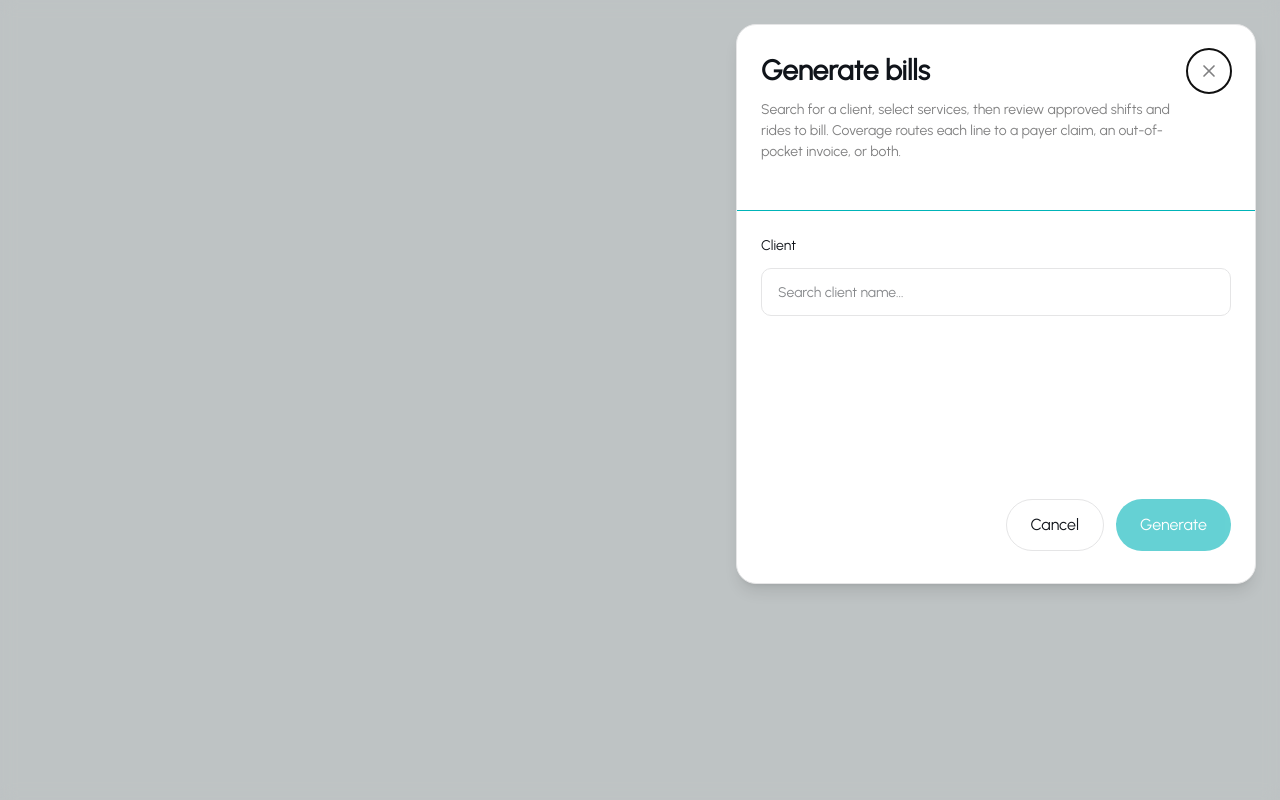
it: claims client search cancellation › clears and preserves loading ownership in the generation modal search
Later steps or results of the test are not shown.
Step 1. Type "Ali" into the field with placeholder "Search client name..." → (996, 292), box top-left (761, 268), bottom-right (1231, 316)
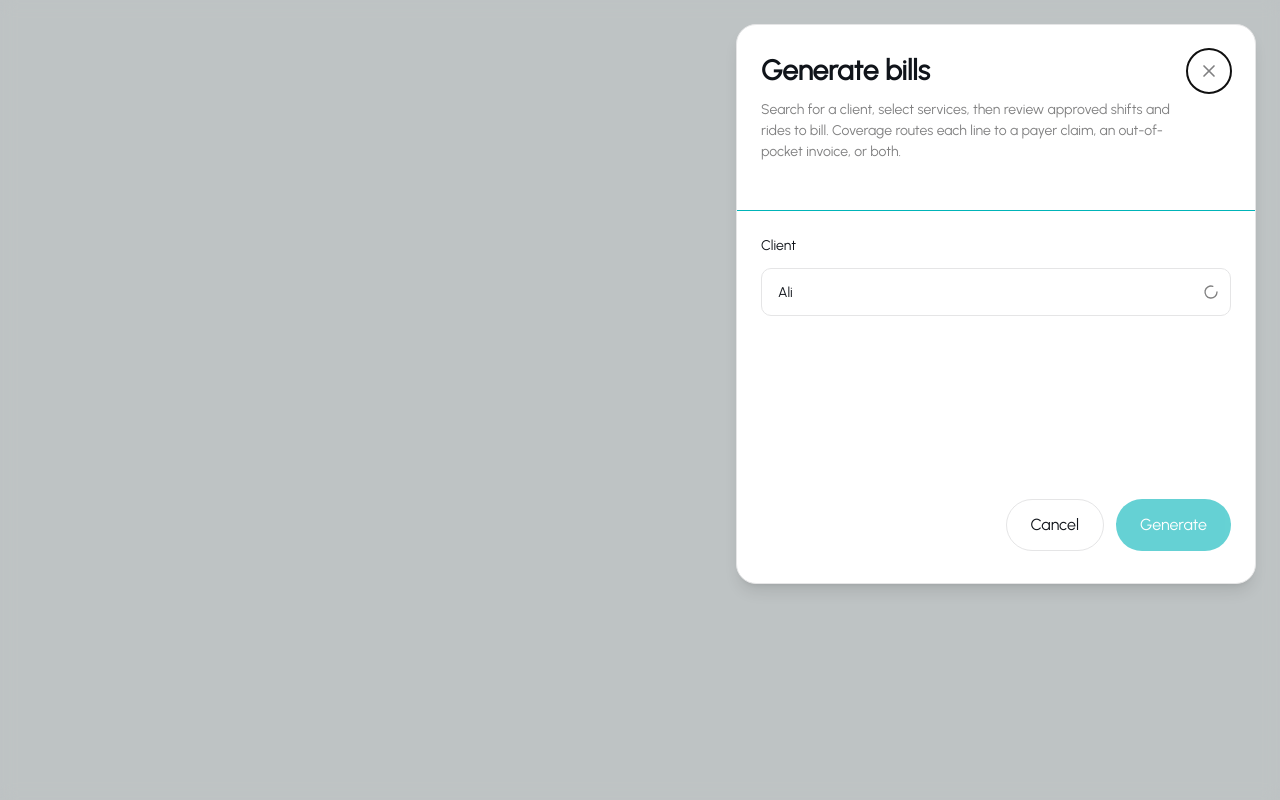
Expected: the icon with class "animate-spin" is shown, top-left (1203, 284), bottom-right (1219, 300)
Step 2. Clear the field with placeholder "Search client name..." → (996, 292), box top-left (761, 268), bottom-right (1231, 316)
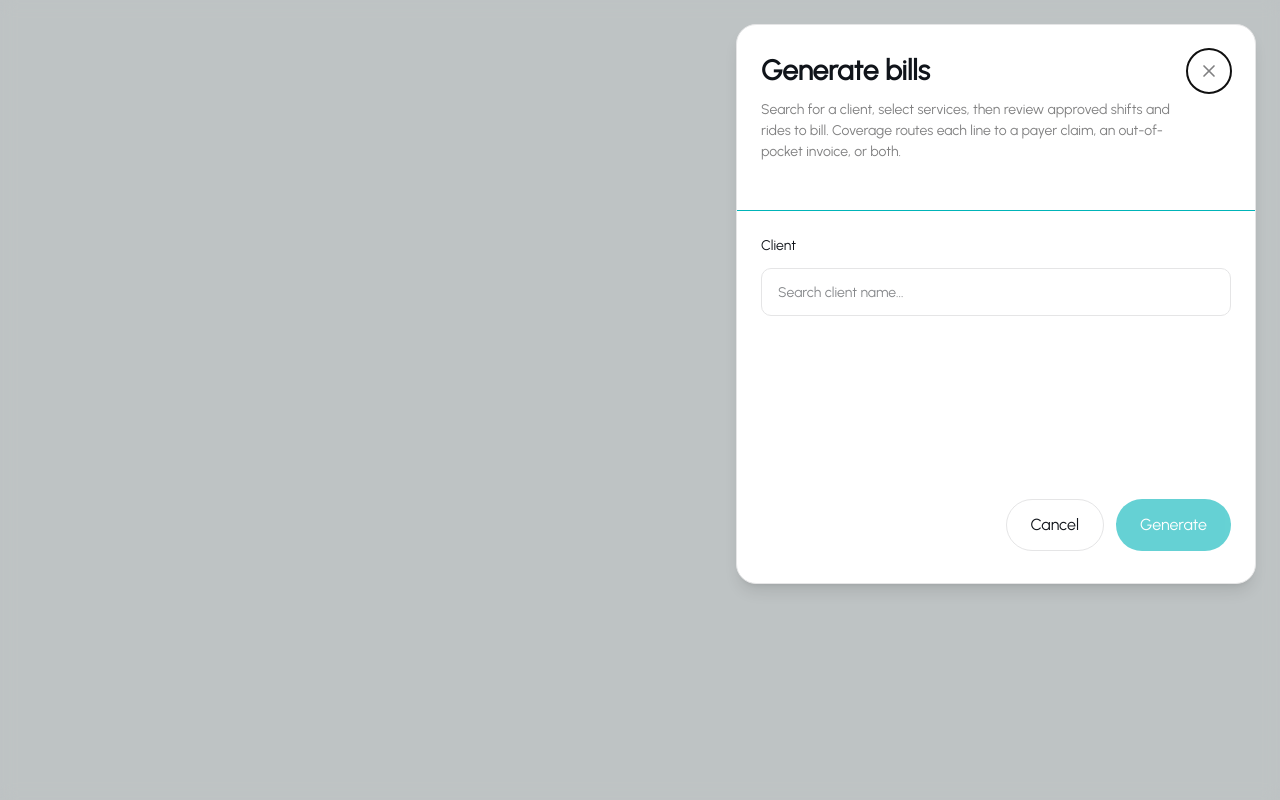
Expected: the icon with class "animate-spin" is gone
